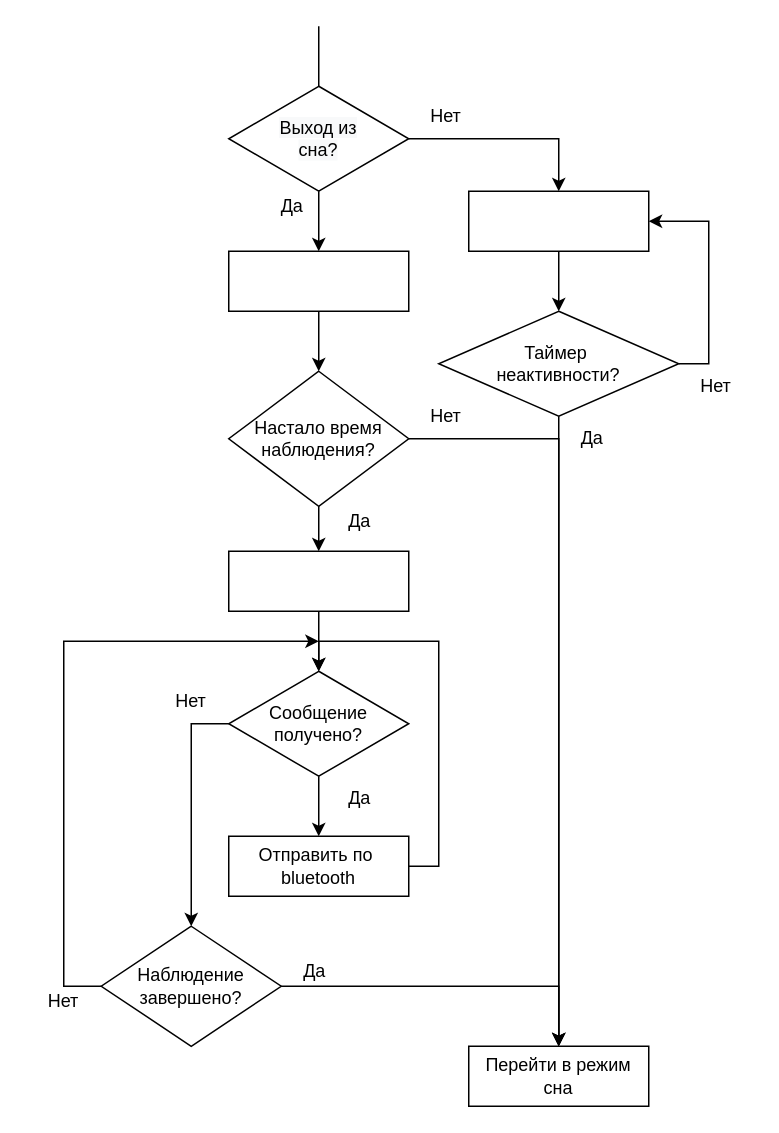
Image size: 779x1133. Some labels were removed from this diagram. Here are the shapes that lost their labels. From the top down, the centre of each, then its label:
pixel 558 220: Ожидать команду
pixel 318 280: Получить время наблюдения
pixel 318 580: Запустить приёмник LoRa
